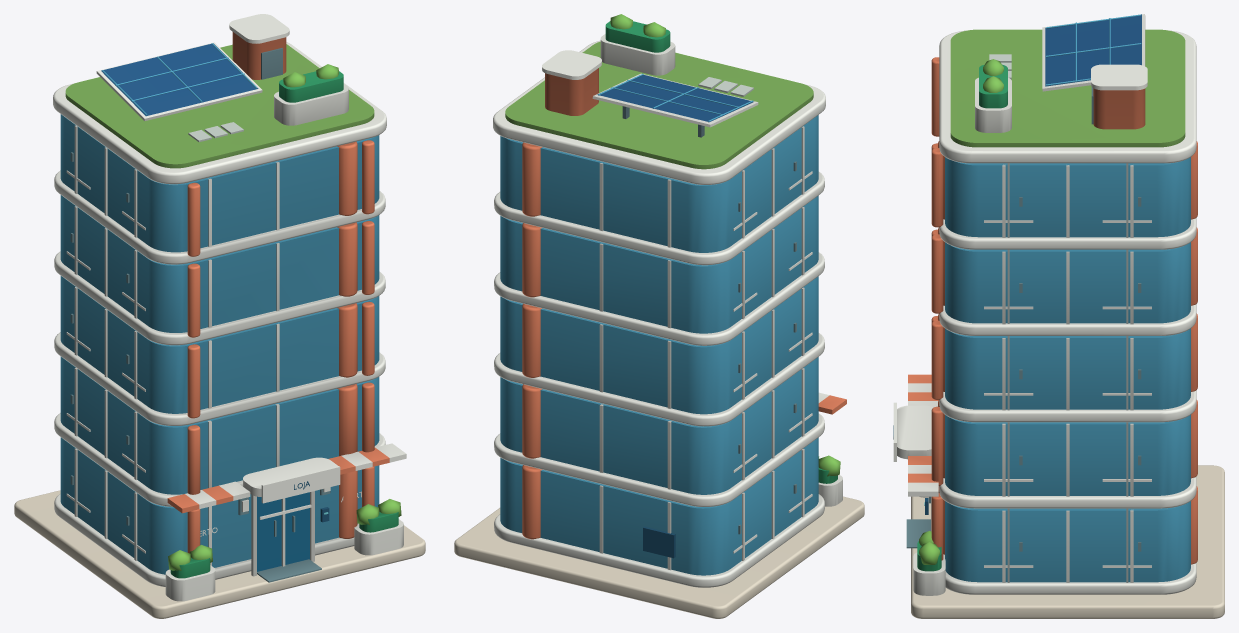
File: townhouse-coral.glb
3 renders of one model, left to right at view 1: azimuth 30°, elevation 25°; view 2: azimuth 150°, elevation 25°; view 3: azimuth 270°, elevation 25°, orthographic. The views are drawn at different scales.
Visible parts, largest first — view 1: continuous blue glazing, floor rim, coloured facade fin, green roof, paved building footprint, photovoltaic cells, recessed entrance, planter foliage, roof access hatch, shrub tip, maintenance stepping stone; view 2: continuous blue glazing, floor rim, green roof, paved building footprint, coloured facade fin, photovoltaic cells, planter foliage, shrub tip, identity LOJA, maintenance stepping stone, roof access hatch; view 3: continuous blue glazing, floor rim, green roof, paved building footprint, coloured facade fin, photovoltaic cells, building movement joint, planter foliage, shrub tip, roof access hatch.
Boxes of the visible parts, bbox=[...] form: continuous blue glazing: bbox=[60, 43, 379, 574]; floor rim: bbox=[53, 14, 406, 601]; coloured facade fin: bbox=[167, 32, 389, 553]; green roof: bbox=[65, 44, 374, 168]; paved building footprint: bbox=[14, 490, 425, 618]; photovoltaic cells: bbox=[101, 43, 258, 116]; recessed entrance: bbox=[257, 492, 309, 571]; planter foliage: bbox=[170, 71, 398, 578]; roof access hatch: bbox=[70, 48, 330, 582]; shrub tip: bbox=[168, 64, 401, 570]; maintenance stepping stone: bbox=[188, 122, 243, 141]; continuous blue glazing: bbox=[500, 74, 818, 575]; floor rim: bbox=[493, 34, 842, 587]; green roof: bbox=[505, 41, 813, 169]; paved building footprint: bbox=[454, 496, 864, 618]; coloured facade fin: bbox=[522, 68, 846, 539]; photovoltaic cells: bbox=[597, 75, 753, 122]; planter foliage: bbox=[605, 21, 837, 483]; shrub tip: bbox=[610, 14, 840, 476]; identity LOJA: bbox=[643, 526, 675, 558]; maintenance stepping stone: bbox=[698, 77, 753, 96]; roof access hatch: bbox=[622, 106, 796, 534]; continuous blue glazing: bbox=[945, 14, 1190, 582]; floor rim: bbox=[893, 14, 1196, 595]; green roof: bbox=[950, 29, 1185, 147]; paved building footprint: bbox=[911, 465, 1224, 618]; coloured facade fin: bbox=[908, 57, 1197, 564]; photovoltaic cells: bbox=[1045, 14, 1141, 86]; building movement joint: bbox=[1007, 163, 1128, 582]; planter foliage: bbox=[917, 64, 1007, 571]; shrub tip: bbox=[919, 59, 1003, 564]; roof access hatch: bbox=[906, 87, 1141, 551].
Bounding box in the file's own units: 2.72 × 4.56 × 2.69.
